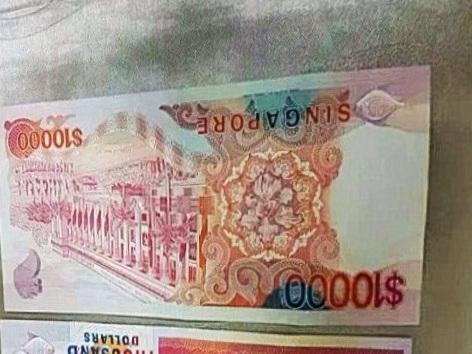10000SingaporeDollar: (6, 86, 419, 311)
